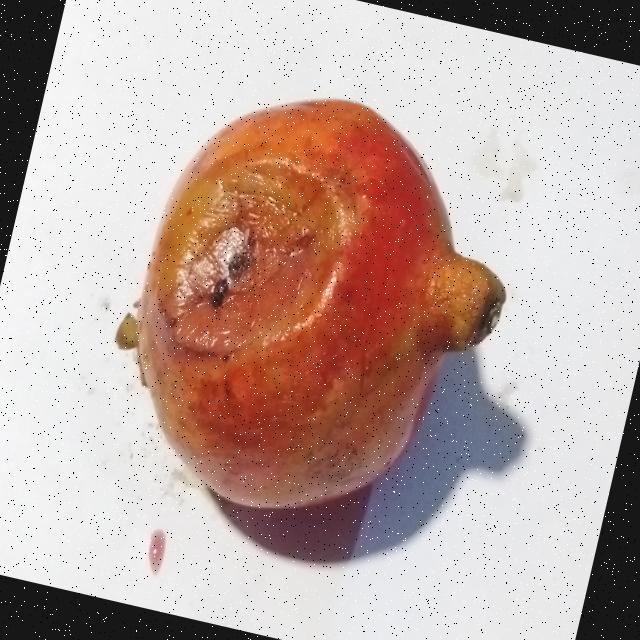Rotten: (92, 57, 547, 558)
